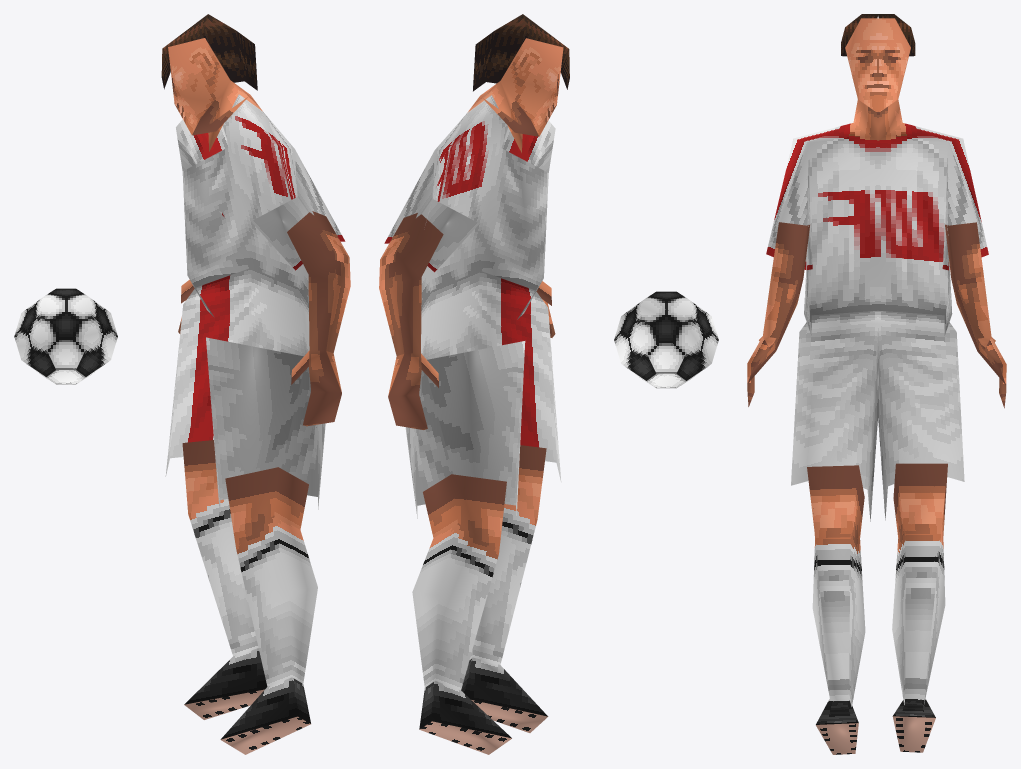
Rendered from ps2_save-icons_worldfantasista.glb.
The picture shows the model from 3 angles, left to right: view 1: azimuth 30°, elevation 25°; view 2: azimuth 150°, elevation 25°; view 3: azimuth 270°, elevation 25°; orthographic projection.
Visible parts, largest first — view 1: icon.dat; view 2: icon.dat; view 3: icon.dat.
Boxes of the visible parts, <box> form: icon.dat: <box>14,14,350,754</box>; icon.dat: <box>379,14,718,754</box>; icon.dat: <box>747,14,1006,754</box>.
Bounding box in the file's own units: 1.99 × 4.83 × 1.59.
1 material, 1 textured.
